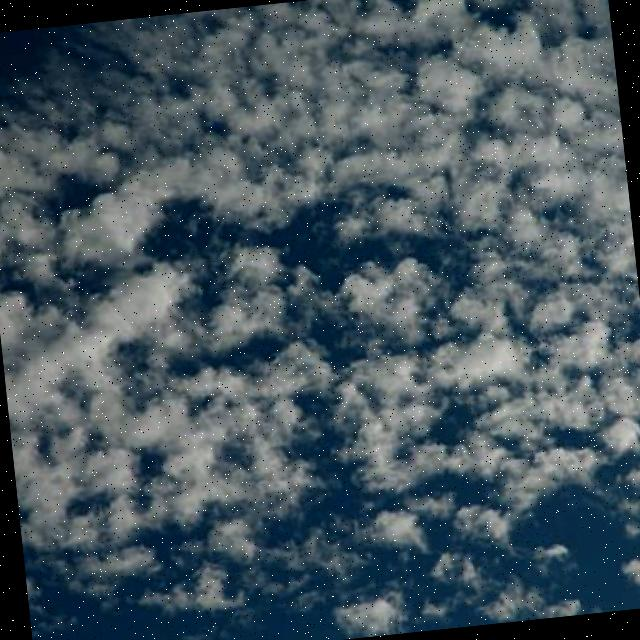Ac: (1, 1, 640, 539)
